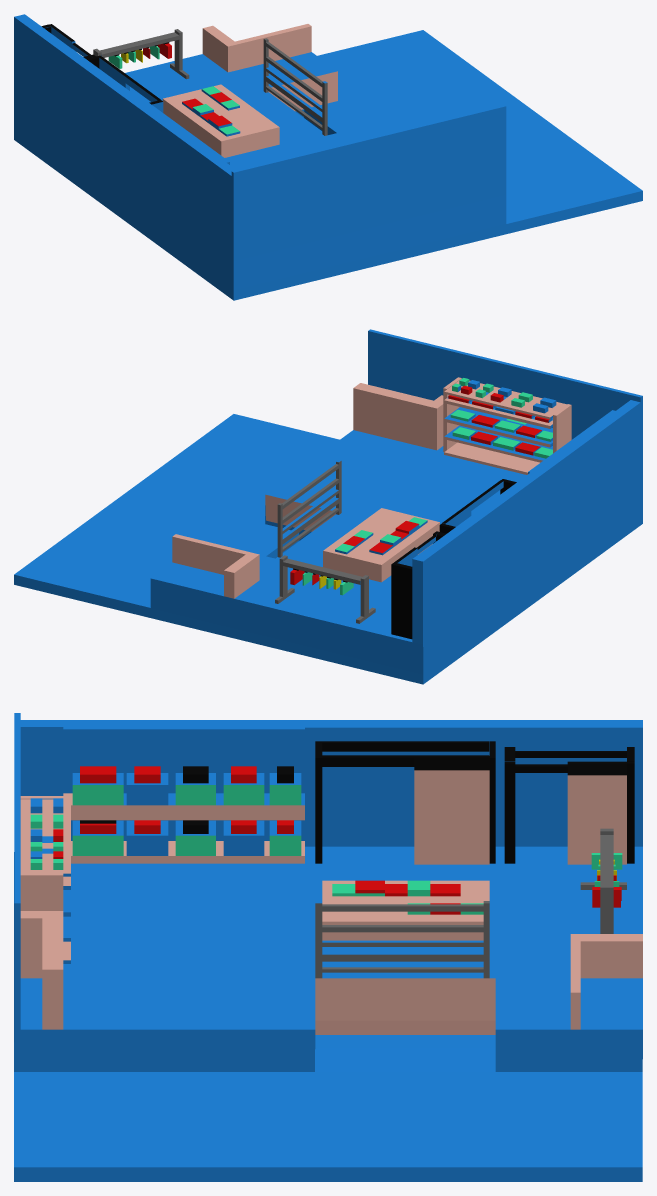
Rendered from Cloths Area.fbx.
3 renders of one model, top to bottom at view 1: azimuth 30°, elevation 25°; view 2: azimuth 150°, elevation 25°; view 3: azimuth 270°, elevation 25°, orthographic. The views are drawn at different scales.
Parts seen in each view (by area): view 1: Cube.001; view 2: Cube.001; view 3: Cube.001.
Boxes of the visible parts, x1=… form: Cube.001: x1=14, y1=14, x2=642, y2=300; Cube.001: x1=14, y1=329, x2=642, y2=684; Cube.001: x1=14, y1=713, x2=642, y2=1181.
Size of the model in its own units: 8451 by 2835 by 7863.
